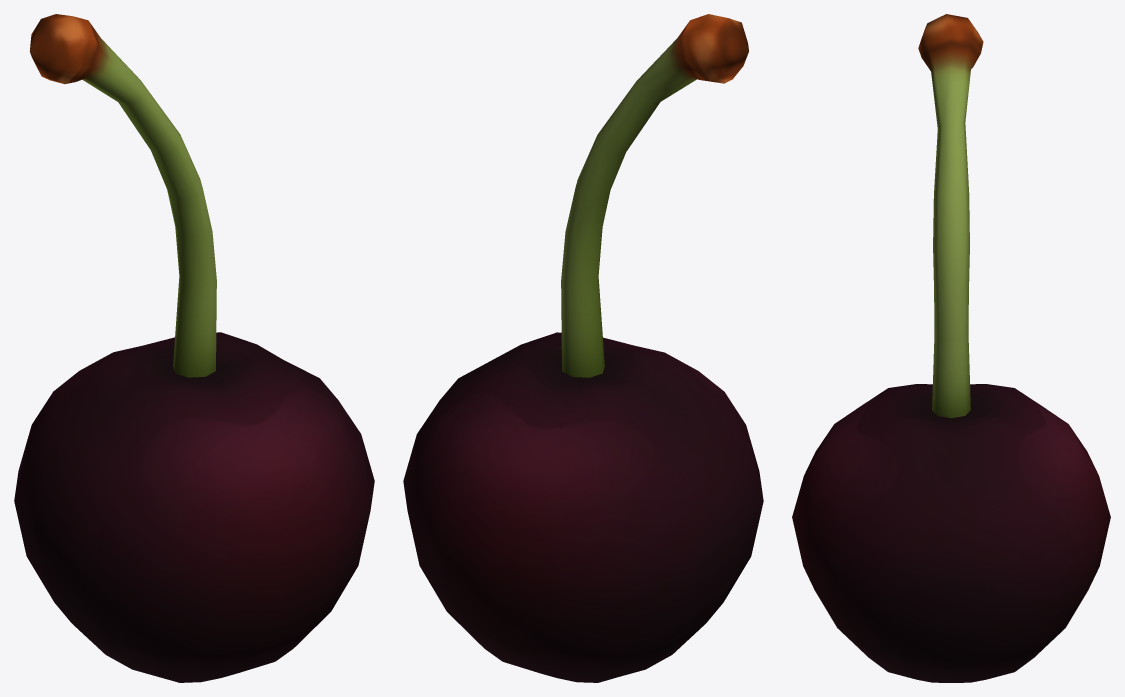
Rendered from Cherry_Black.fbx.
3 views of the same model, side by side, from view 1: azimuth 30°, elevation 25°; view 2: azimuth 150°, elevation 25°; view 3: azimuth 270°, elevation 25° (orthographic). The views are drawn at different scales.
Visible parts, largest first — view 1: Cherry_Black; view 2: Cherry_Black; view 3: Cherry_Black.
Boxes of the visible parts, bbox=[...] form: Cherry_Black: bbox=[14, 14, 374, 682]; Cherry_Black: bbox=[403, 14, 763, 682]; Cherry_Black: bbox=[792, 14, 1110, 682].
Size of the model in its own units: 14.95 by 30.2 by 14.61.
